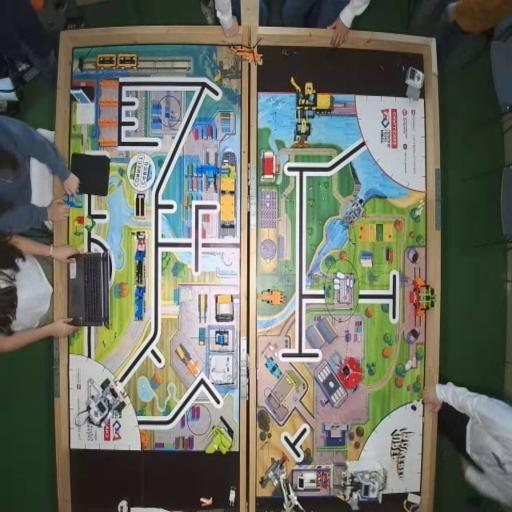lego_robot: (263, 454, 390, 512), (85, 377, 128, 429)
